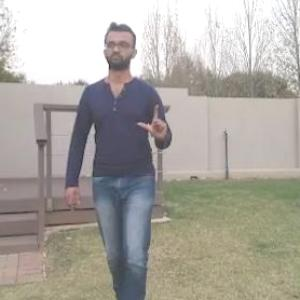land_hand: (135, 98, 173, 146)
